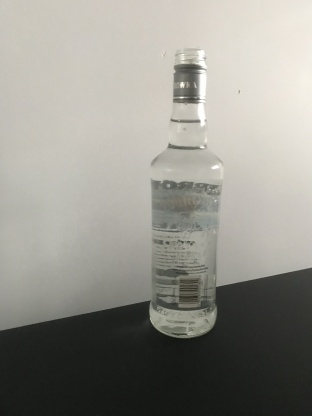nakretka: (170, 46, 208, 104)
